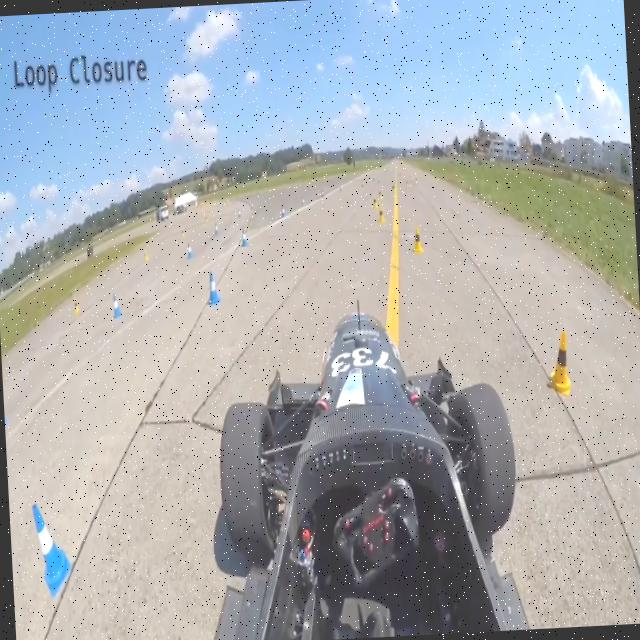blue_cone: (28, 497, 72, 599), (205, 268, 222, 308), (111, 292, 121, 319), (240, 227, 249, 249), (186, 241, 194, 261), (213, 224, 220, 238), (280, 206, 286, 220), (301, 196, 306, 209), (237, 208, 242, 218), (322, 188, 326, 198)
yellow_cone: (544, 331, 572, 392), (411, 227, 424, 256), (378, 208, 386, 225), (74, 296, 80, 316), (372, 194, 379, 210), (144, 248, 150, 264), (378, 188, 384, 201), (180, 228, 186, 239), (391, 183, 396, 195)
